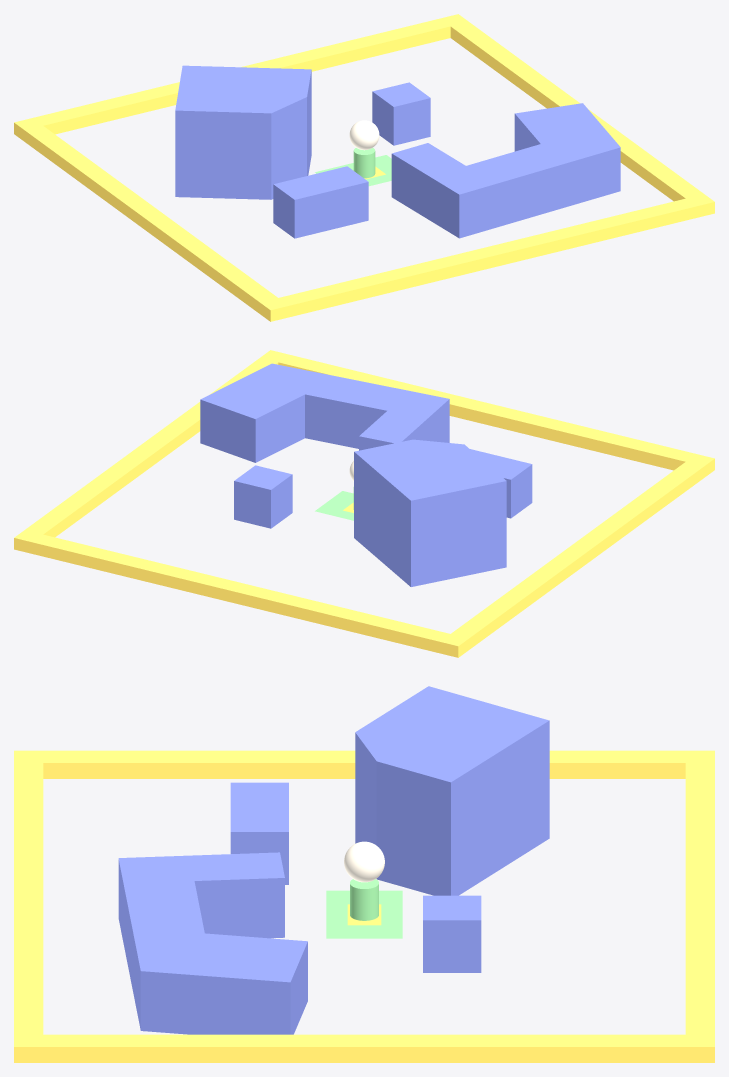
3 renders of one model, top to bottom at view 1: azimuth 30°, elevation 25°; view 2: azimuth 150°, elevation 25°; view 3: azimuth 270°, elevation 25°, orthographic. The views are drawn at different scales.
Visible parts, largest first — view 1: Body4, Body5, Body3, Body2.001, Body1.001, Body2.002, Body1.002, Body1; view 2: Body4, Body3, Body5, Body1.001, Body2.001, Body1; view 3: Body4, Body3, Body5, Body1.001, Body2.001, Body1, Body2.002, Body1.002.
Part boxes in pixels (x1,y1,x2,y2): Body4: (14, 14, 714, 321); Body5: (391, 103, 620, 238); Body3: (175, 65, 311, 199); Body2.001: (273, 166, 368, 238); Body1.001: (372, 82, 430, 145); Body2.002: (349, 120, 379, 150); Body1.002: (353, 148, 375, 178); Body1: (315, 155, 391, 186); Body4: (14, 350, 714, 657); Body3: (354, 439, 506, 586); Body5: (200, 363, 449, 462); Body1.001: (234, 465, 292, 528); Body2.001: (470, 449, 532, 518); Body1: (315, 491, 353, 520); Body4: (14, 750, 714, 1062); Body3: (355, 686, 549, 895); Body5: (118, 852, 307, 1034); Body1.001: (423, 895, 481, 972); Body2.001: (230, 782, 288, 884); Body1: (326, 890, 402, 938); Body2.002: (344, 841, 384, 882); Body1.002: (350, 879, 378, 920).
Size of the model in its own units: 12 by 2.23 by 12.
